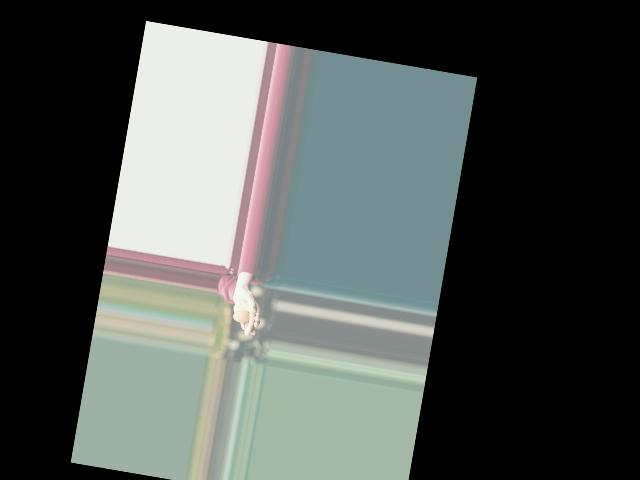egg: (232, 308, 250, 323)
